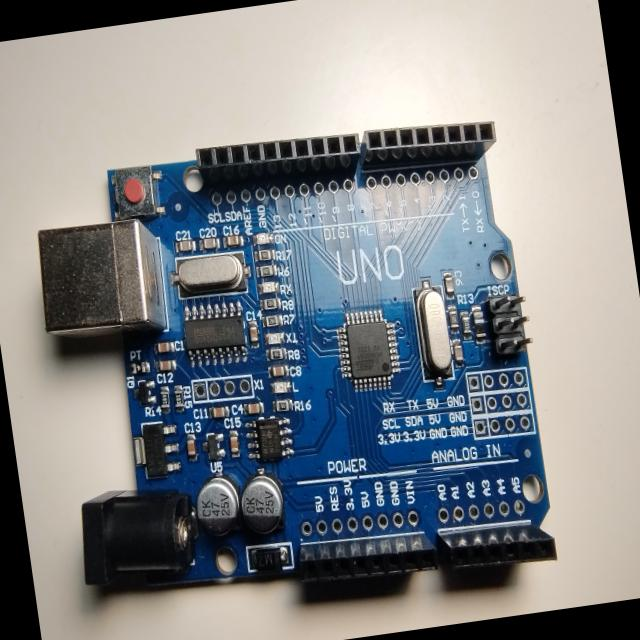arduino: (10, 83, 573, 640)
